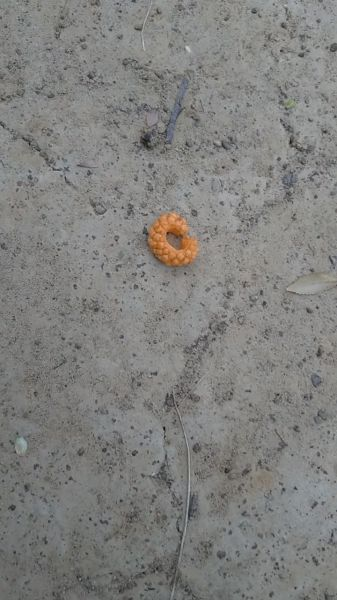eggs: (144, 212, 199, 270)
